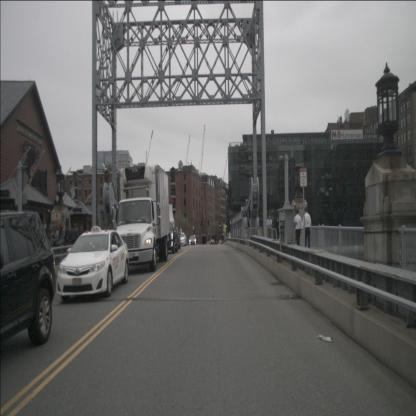human-pedestrian-adult: (302, 207, 312, 255), (49, 225, 60, 265), (293, 209, 303, 252), (63, 226, 72, 266), (58, 223, 66, 263), (71, 223, 79, 258), (78, 224, 86, 256), (267, 214, 272, 247), (276, 217, 280, 243)
vehicle-car: (0, 212, 57, 345), (57, 226, 129, 304), (157, 221, 178, 252), (178, 231, 187, 247), (188, 235, 197, 246), (210, 239, 215, 246)
vehicle-truck: (115, 164, 171, 270)
